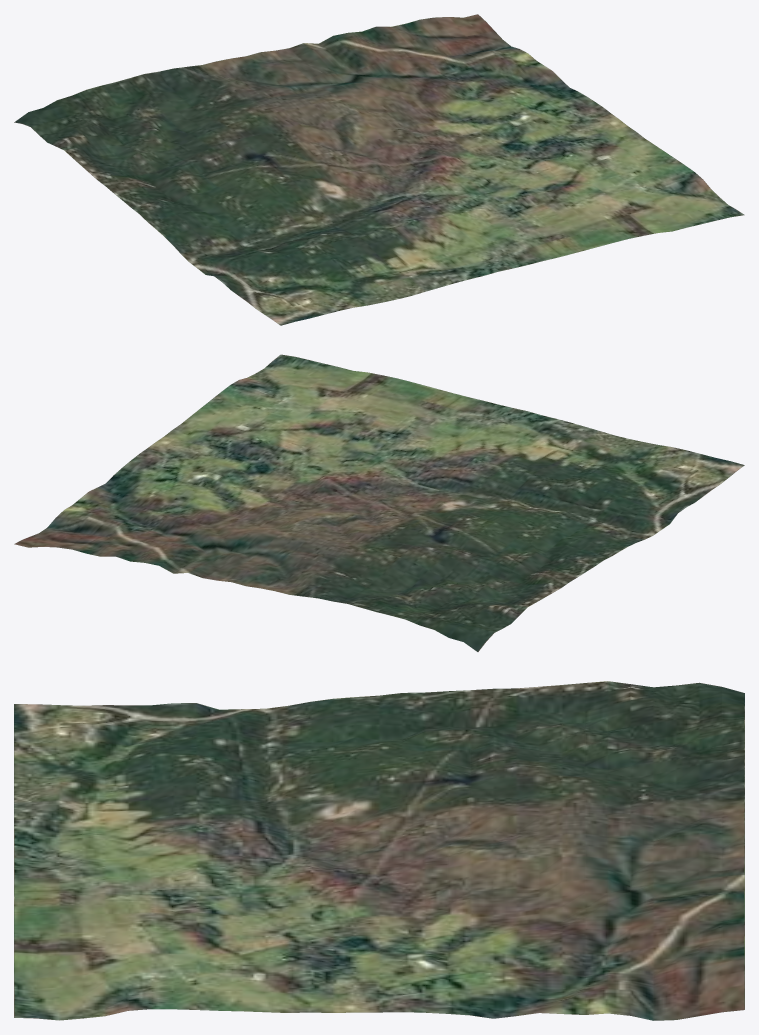
3 renders of one model, top to bottom at view 1: azimuth 30°, elevation 25°; view 2: azimuth 150°, elevation 25°; view 3: azimuth 270°, elevation 25°, orthographic. The views are drawn at different scales.
Size of the model in its own units: 3898 by 237 by 3881.
1 material, 1 textured.
